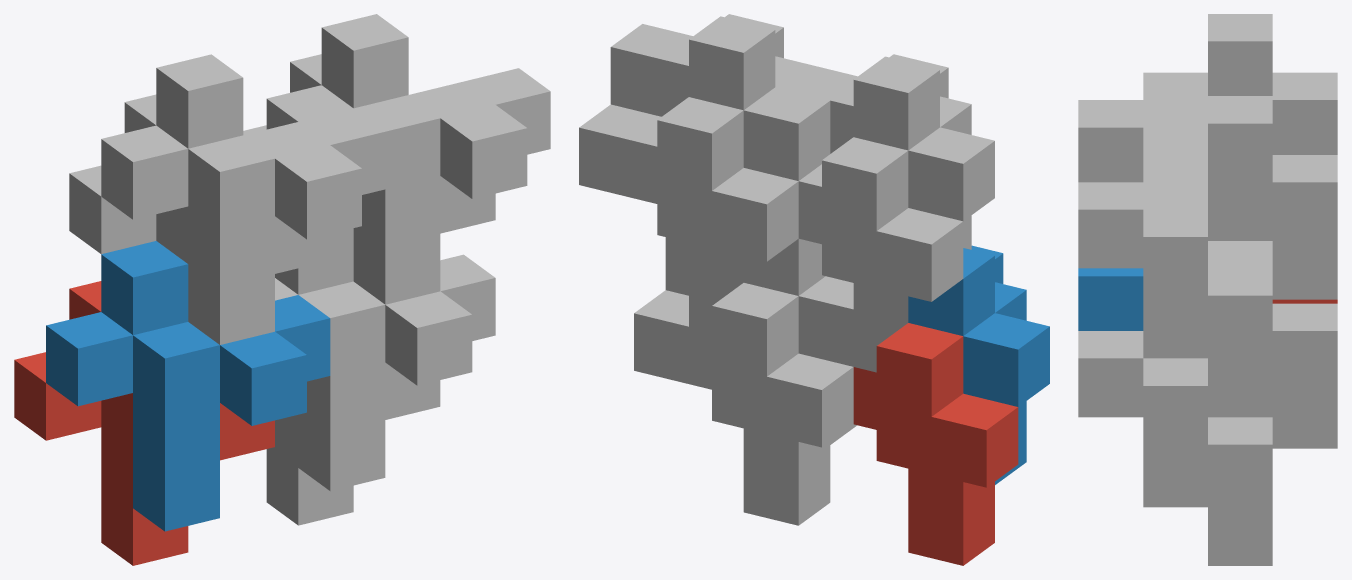
File: tiling.obj
The picture shows the model from 3 angles, left to right: view 1: azimuth 30°, elevation 25°; view 2: azimuth 150°, elevation 25°; view 3: azimuth 270°, elevation 25°; orthographic projection. The views are drawn at different scales.
Visible parts, largest first — view 1: copy_1_domain_4, copy_1_domain_2, copy_1_domain_8, copy_1_domain_6, copy_1_domain_1, copy_1_domain_3, copy_1_domain_5, copy_1_domain_7; view 2: copy_1_domain_5, copy_1_domain_7, copy_1_domain_1, copy_1_domain_3, copy_1_domain_8, copy_1_domain_4, copy_1_domain_2, copy_1_domain_6; view 3: copy_1_domain_8, copy_1_domain_7, copy_1_domain_5, copy_1_domain_4, copy_1_domain_6, copy_1_domain_3, copy_1_domain_2.
Part boxes in pixels (x1,y1,x2,y2): copy_1_domain_4: [101, 54, 385, 344]; copy_1_domain_2: [46, 241, 330, 531]; copy_1_domain_8: [266, 14, 550, 304]; copy_1_domain_6: [275, 228, 495, 491]; copy_1_domain_1: [14, 281, 274, 565]; copy_1_domain_3: [69, 94, 330, 273]; copy_1_domain_5: [266, 362, 440, 525]; copy_1_domain_7: [243, 54, 495, 233]; copy_1_domain_5: [634, 283, 853, 525]; copy_1_domain_7: [579, 97, 798, 332]; copy_1_domain_1: [853, 323, 1018, 565]; copy_1_domain_3: [798, 137, 963, 372]; copy_1_domain_8: [610, 14, 830, 180]; copy_1_domain_4: [775, 54, 994, 249]; copy_1_domain_2: [908, 245, 1049, 484]; copy_1_domain_6: [665, 237, 856, 444]; copy_1_domain_8: [1078, 96, 1272, 358]; copy_1_domain_7: [1143, 155, 1337, 417]; copy_1_domain_5: [1143, 303, 1337, 565]; copy_1_domain_4: [1078, 14, 1272, 182]; copy_1_domain_6: [1078, 331, 1207, 507]; copy_1_domain_3: [1272, 72, 1337, 154]; copy_1_domain_2: [1078, 268, 1143, 330].
Size of the model in its own units: 8 by 8 by 4.
